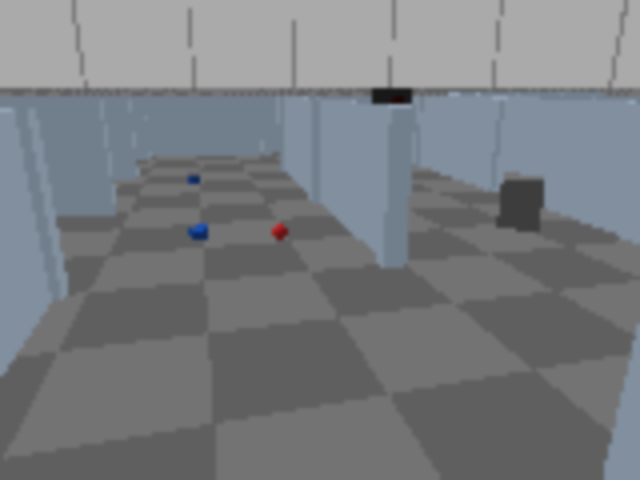obstacle: (497, 173, 546, 232)
puck: (270, 223, 290, 243)
